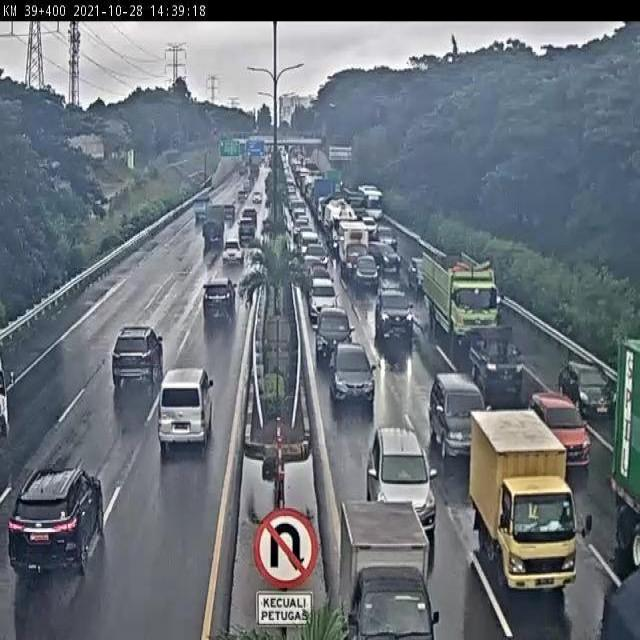car: (7, 468, 103, 577), (368, 426, 436, 526), (429, 374, 487, 462), (531, 388, 591, 464), (159, 371, 214, 445), (465, 321, 522, 392), (560, 358, 618, 414), (110, 325, 162, 384), (329, 342, 377, 402), (315, 306, 352, 362), (375, 289, 415, 340), (308, 276, 337, 321), (202, 278, 231, 314), (370, 242, 401, 270), (354, 255, 379, 285), (408, 255, 431, 285), (303, 253, 324, 280), (221, 240, 244, 264), (307, 264, 331, 285), (305, 244, 328, 265)
mid truck: (422, 251, 502, 348)
small truck: (467, 413, 575, 591), (339, 501, 438, 640), (340, 224, 370, 271)
